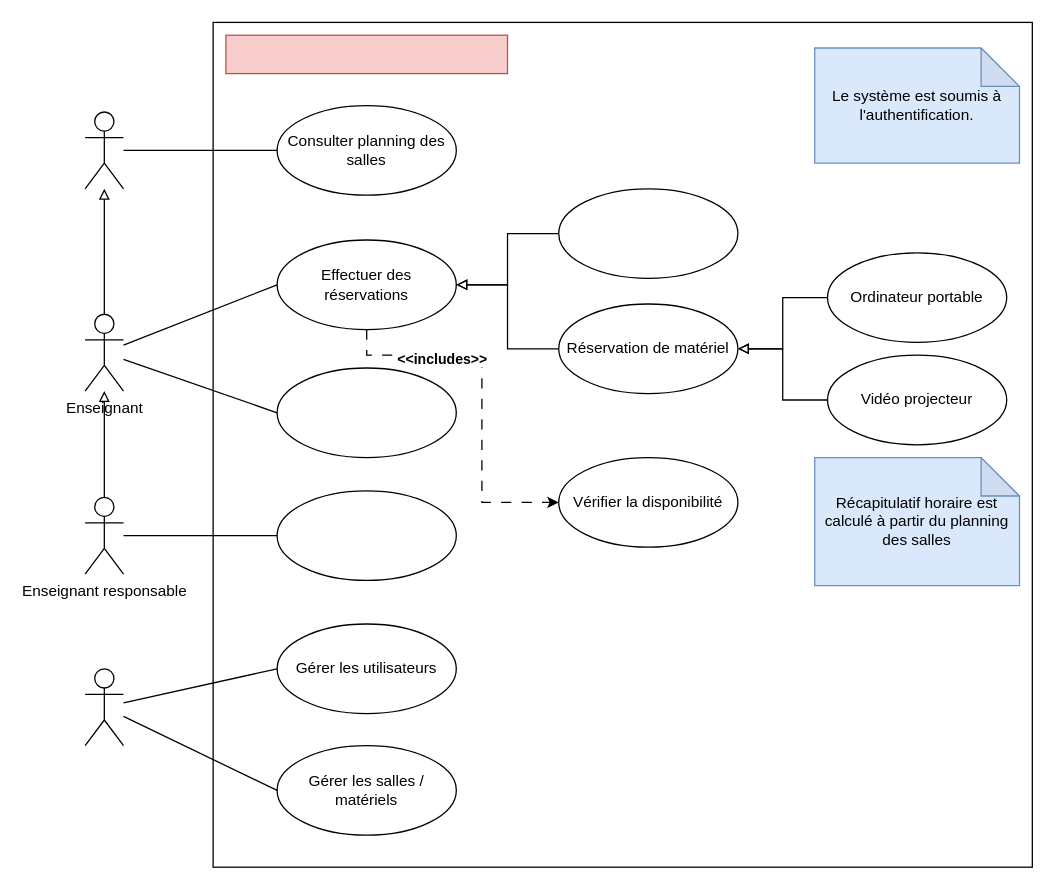
Some shapes in this 1055 by 890 pixel diagram are drawn without their labels. The centre of each missing label's shape, as x and y in pixels:
Admin: the point at 104,707
Consulter récapitulatif horaire: the point at 366,412
Editer récapitulatif horaire: the point at 366,535
Etudiant: the point at 104,150
Logiciel de réservation scolaire: the point at 366,54
Réservation de salle: the point at 647,233
